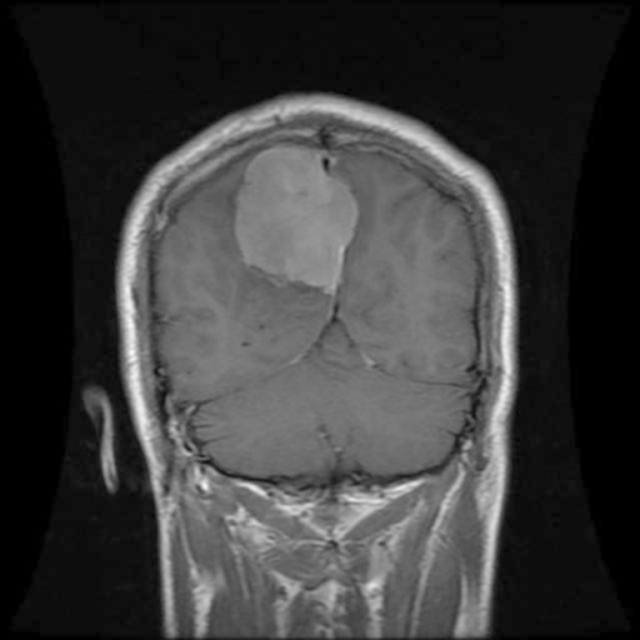meningioma tumor: (230, 139, 376, 299)
